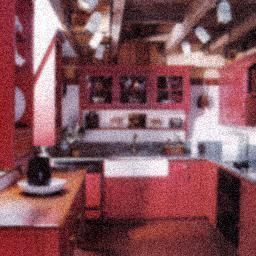Electrodomestico: (217, 160, 240, 250)
Lavaplatos: (110, 129, 162, 160)
